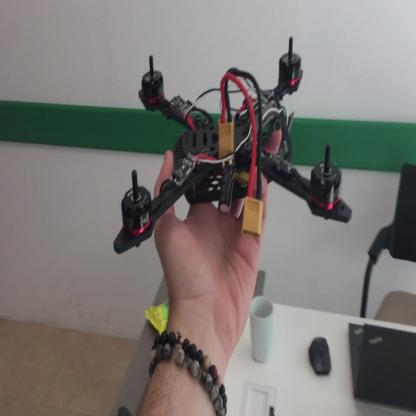drone: (125, 34, 350, 264)
